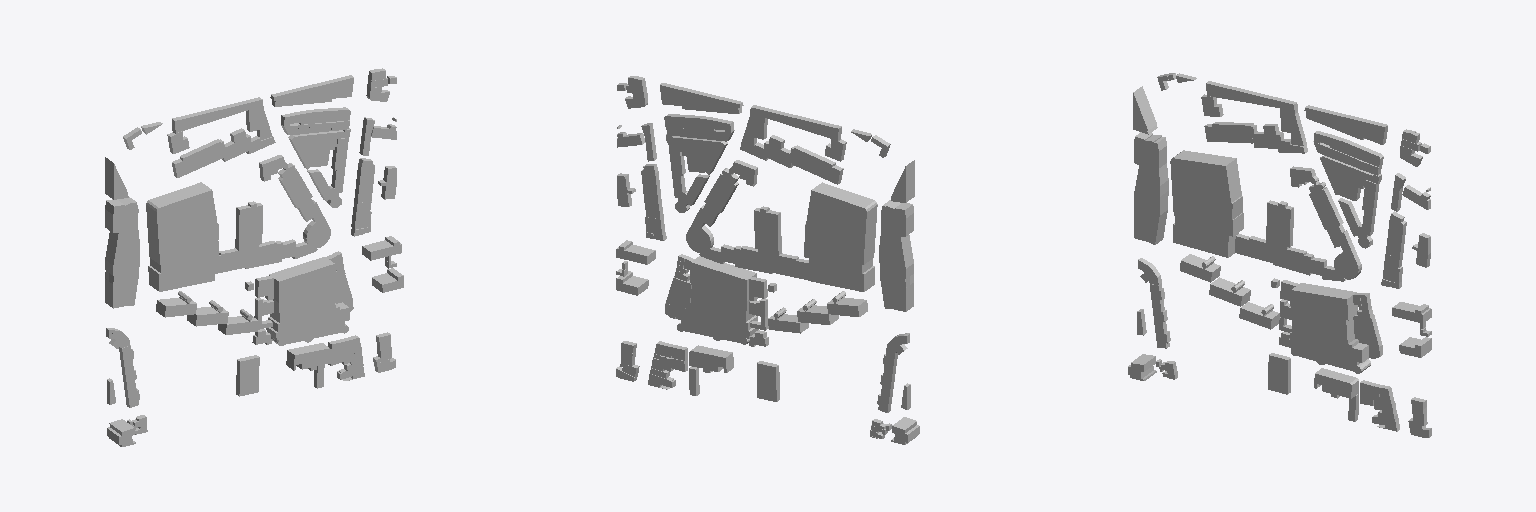
The model's file is AungierStreet_TUDublin_Campus v2.obj.
The picture shows the model from 3 angles: view 1: azimuth 30°, elevation 25°; view 2: azimuth 150°, elevation 25°; view 3: azimuth 330°, elevation 25°; orthographic projection.
Visible parts, largest first — view 1: MeshBody1 (13), MeshBody1 (26), MeshBody1 (11), MeshBody1 (29), MeshBody1 (19), MeshBody1 (20), MeshBody1 (16), MeshBody1 (30), MeshBody1 (35), MeshBody1 (36), MeshBody1 (1), MeshBody1 (4) (+9 smaller); view 2: MeshBody1 (13), MeshBody1 (26), MeshBody1 (11), MeshBody1 (29), MeshBody1 (19), MeshBody1 (16), MeshBody1 (20), MeshBody1 (30), MeshBody1 (35), MeshBody1 (36), MeshBody1 (1), MeshBody1 (4) (+9 smaller); view 3: MeshBody1 (13), MeshBody1 (26), MeshBody1 (11), MeshBody1 (29), MeshBody1 (19), MeshBody1 (20), MeshBody1 (16), MeshBody1 (30), MeshBody1 (35), MeshBody1 (36), MeshBody1 (1), MeshBody1 (4) (+9 smaller).
Part boxes in pixels (bbox=[...]): MeshBody1 (13): bbox=[146, 155, 330, 291]; MeshBody1 (26): bbox=[255, 251, 353, 345]; MeshBody1 (11): bbox=[167, 97, 275, 177]; MeshBody1 (29): bbox=[105, 197, 139, 308]; MeshBody1 (19): bbox=[288, 128, 350, 207]; MeshBody1 (20): bbox=[281, 107, 350, 134]; MeshBody1 (16): bbox=[270, 75, 353, 106]; MeshBody1 (30): bbox=[351, 158, 374, 236]; MeshBody1 (35): bbox=[328, 335, 364, 380]; MeshBody1 (36): bbox=[106, 328, 139, 407]; MeshBody1 (1): bbox=[286, 343, 331, 370]; MeshBody1 (4): bbox=[236, 355, 259, 396]; MeshBody1 (13): bbox=[686, 160, 877, 291]; MeshBody1 (26): bbox=[665, 254, 767, 344]; MeshBody1 (11): bbox=[740, 105, 846, 184]; MeshBody1 (29): bbox=[879, 200, 913, 311]; MeshBody1 (19): bbox=[666, 134, 727, 212]; MeshBody1 (16): bbox=[660, 83, 743, 113]; MeshBody1 (20): bbox=[664, 114, 734, 141]; MeshBody1 (30): bbox=[641, 164, 666, 240]; MeshBody1 (35): bbox=[648, 341, 687, 389]; MeshBody1 (36): bbox=[877, 333, 909, 412]; MeshBody1 (1): bbox=[689, 345, 733, 372]; MeshBody1 (4): bbox=[757, 361, 779, 401]; MeshBody1 (13): bbox=[1170, 150, 1361, 281]; MeshBody1 (26): bbox=[1280, 280, 1382, 373]; MeshBody1 (11): bbox=[1201, 81, 1307, 153]; MeshBody1 (29): bbox=[1134, 132, 1168, 244]; MeshBody1 (19): bbox=[1320, 155, 1381, 248]; MeshBody1 (20): bbox=[1313, 131, 1383, 175]; MeshBody1 (16): bbox=[1304, 105, 1387, 144]; MeshBody1 (30): bbox=[1381, 211, 1406, 288]; MeshBody1 (35): bbox=[1360, 380, 1399, 431]; MeshBody1 (36): bbox=[1138, 258, 1170, 348]; MeshBody1 (1): bbox=[1314, 368, 1358, 398]; MeshBody1 (4): bbox=[1268, 353, 1290, 394].
Size of the model in its own units: 503 by 503 by 46.42.